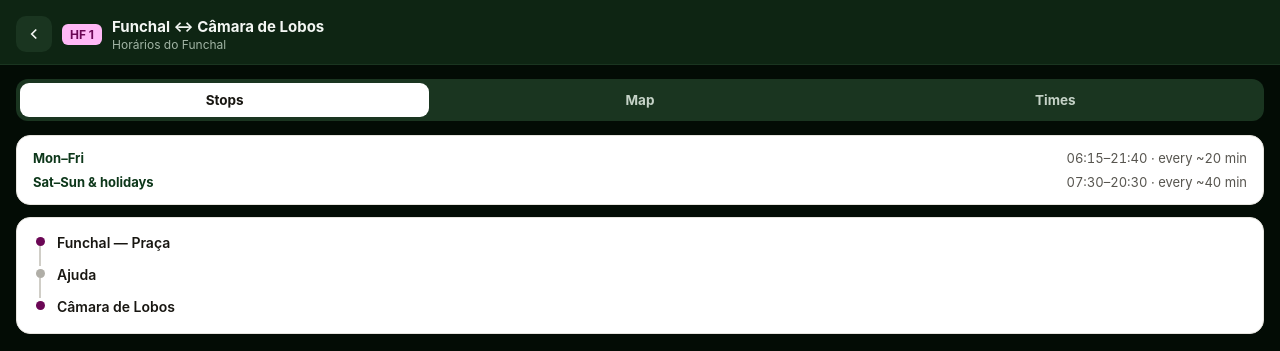
Scenario: RouteDetailScreen › Times view › renders one row per stop, blank cells for a trip that skips a stop, and defaults to the weekday tab on a weekday
Click the button "Times" at {"x": 1055, "y": 100}, box top-left (851, 83), bottom-right (1260, 117)
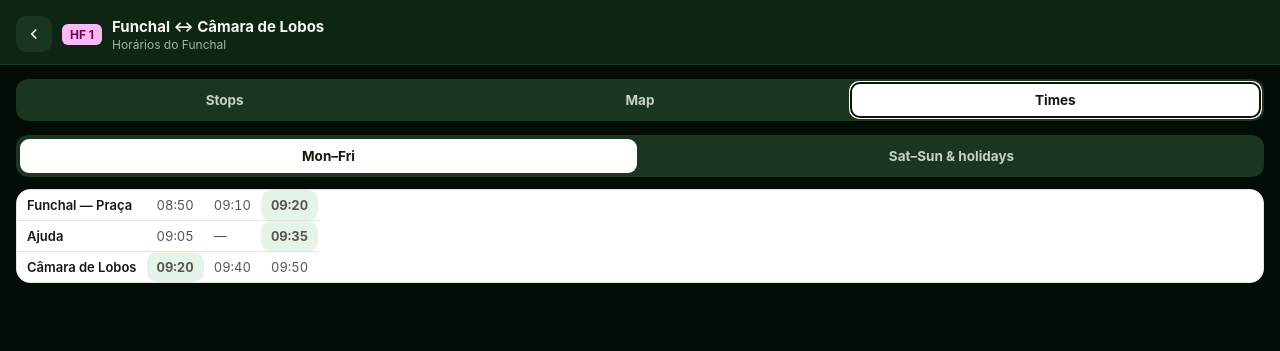
Result: the number of rows is 3 at top-left (17, 190), bottom-right (318, 220); top-left (17, 220), bottom-right (318, 252); top-left (17, 252), bottom-right (318, 282)
Result: the row "Ajuda 09:05 — 09:35" is shown at top-left (17, 220), bottom-right (318, 252)
Result: the cells read "09:05", "—", "09:35", in this order at top-left (146, 220), bottom-right (204, 252); top-left (204, 220), bottom-right (261, 252); top-left (261, 220), bottom-right (318, 252)
